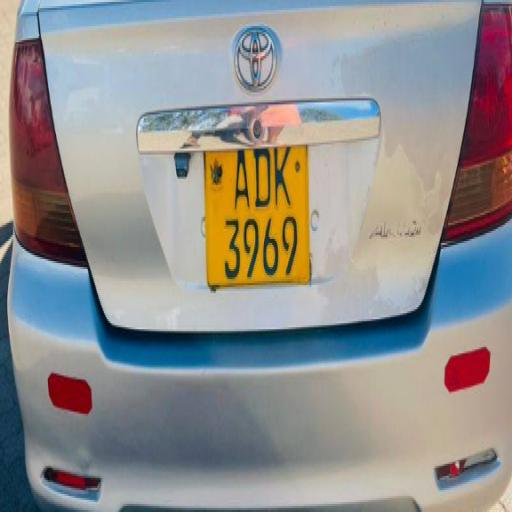number-plates: (204, 146, 302, 284)
